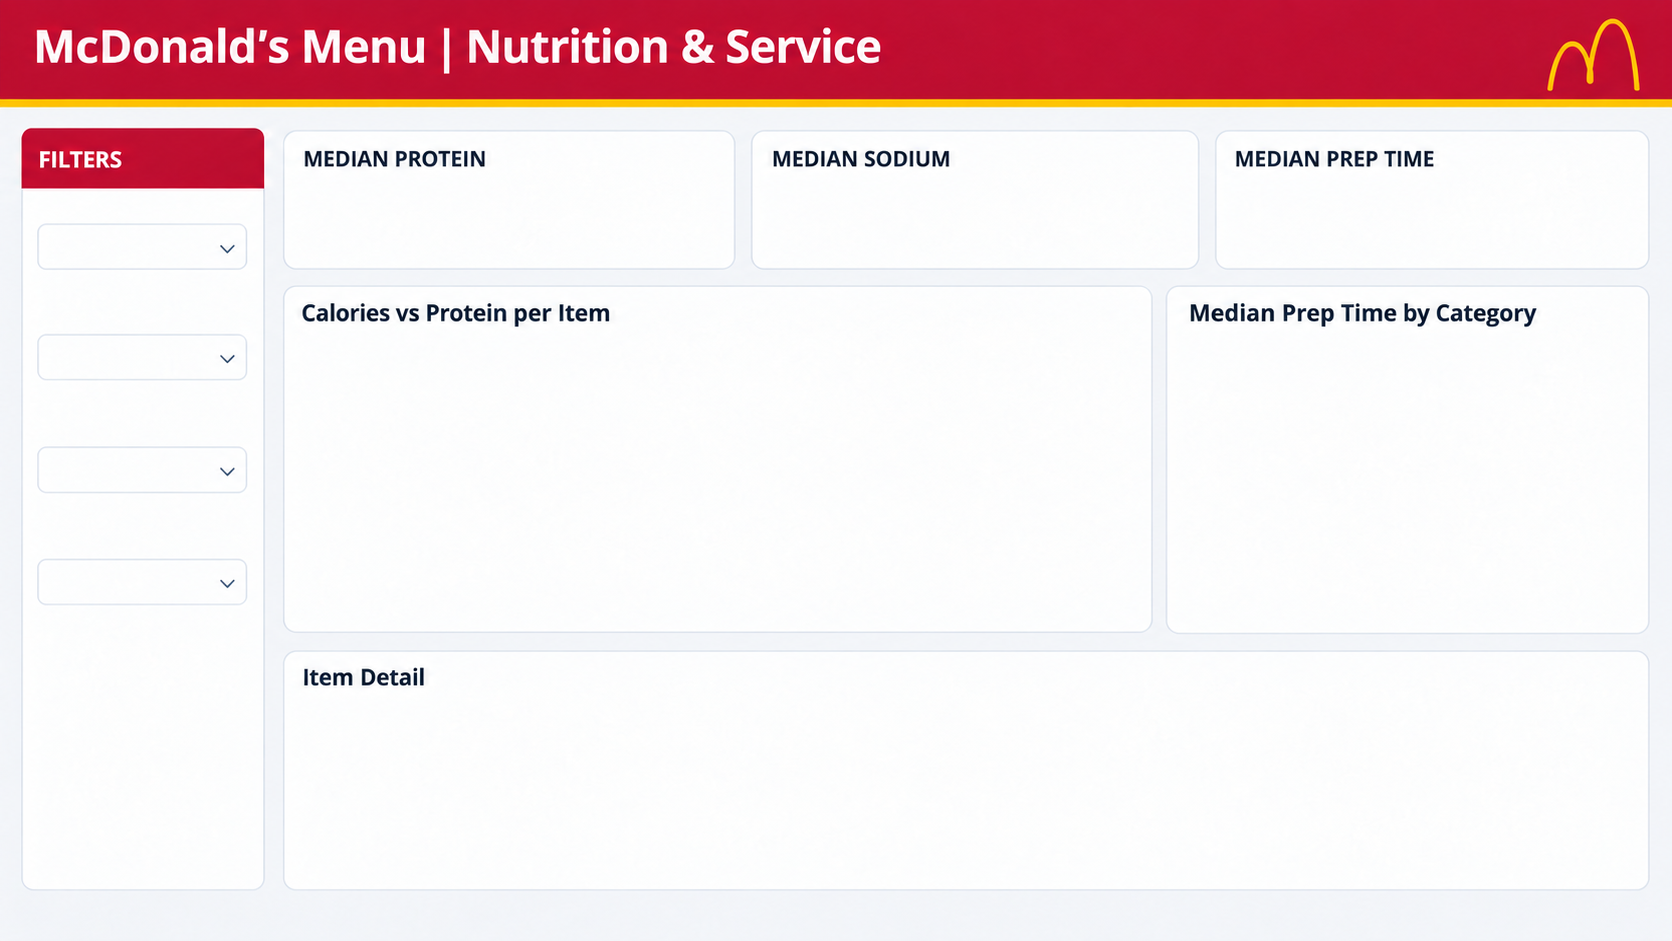

Layout of this report page (visuals, bound fields, positions):
{"tool":"powerbi","page":{"name":"Nutrition & Service","canvas":[1920,1080],"ordinal":1},"visuals":[{"type":"cardVisual","fields":{"Data":["final_mcdonalds_menu.Median Protein"]},"box":[335.3,150.1,242.7,175.2],"z":0},{"type":"cardVisual","fields":{"Data":["final_mcdonalds_menu.Median Sodium"]},"box":[875.8,150.1,242.7,175.2],"z":1000},{"type":"cardVisual","fields":{"Data":["final_mcdonalds_menu.Median Prep Time"]},"box":[1403.7,150.1,242.7,175.2],"z":2000},{"type":"scatterChart","fields":{"X":["Sum(final_mcdonalds_menu.calories)"],"Y":["Sum(final_mcdonalds_menu.protein_g)"],"Category":["final_mcdonalds_menu.item_name"],"Series":["final_mcdonalds_menu.category"]},"box":[334.3,323.7,988,395.2],"z":3000},{"type":"clusteredBarChart","fields":{"Category":["final_mcdonalds_menu.category"],"Y":["final_mcdonalds_menu.Median Prep Time"]},"box":[1353.7,362.8,507.9,355.3],"z":4000},{"type":"tableEx","fields":{"Values":["final_mcdonalds_menu.item_name","final_mcdonalds_menu.price_usd","final_mcdonalds_menu.calories","final_mcdonalds_menu.protein_g","final_mcdonalds_menu.sodium_mg","final_mcdonalds_menu.sugars_g","final_mcdonalds_menu.total_carbs_g"]},"box":[335.3,778.2,1526.3,240.2],"z":5000},{"type":"slicer","fields":{"Values":["final_mcdonalds_menu.category"]},"box":[41.8,242.4,237.1,52.9],"z":6000},{"type":"slicer","fields":{"Values":["final_mcdonalds_menu.is_vegetarian"]},"box":[42.5,368.3,236.2,61.3],"z":6001},{"type":"slicer","fields":{"Values":["final_mcdonalds_menu.is_limited_time"]},"box":[42.9,497.9,236.2,61.3],"z":6002},{"type":"slicer","fields":{"Values":["final_mcdonalds_menu.is_nationwide"]},"box":[42.1,626.4,236.4,61.4],"z":6003}]}

Visuals, with their boxes in screenshot pixels (x1, y1, x2, y2), scaled from the page's 1920x1080 canvas onto the 1672x941 screenshot:
cardVisual - final_mcdonalds_menu.Median Protein: bbox=(292, 131, 503, 283)
cardVisual - final_mcdonalds_menu.Median Sodium: bbox=(763, 131, 974, 283)
cardVisual - final_mcdonalds_menu.Median Prep Time: bbox=(1222, 131, 1434, 283)
scatterChart - Sum(final_mcdonalds_menu.calories) x Sum(final_mcdonalds_menu.protein_g): bbox=(291, 282, 1152, 626)
clusteredBarChart - final_mcdonalds_menu.category x final_mcdonalds_menu.Median Prep Time: bbox=(1179, 316, 1621, 626)
tableEx - final_mcdonalds_menu.item_name x final_mcdonalds_menu.price_usd: bbox=(292, 678, 1621, 887)
slicer - final_mcdonalds_menu.category: bbox=(36, 211, 243, 257)
slicer - final_mcdonalds_menu.is_vegetarian: bbox=(37, 321, 243, 374)
slicer - final_mcdonalds_menu.is_limited_time: bbox=(37, 434, 243, 487)
slicer - final_mcdonalds_menu.is_nationwide: bbox=(37, 546, 243, 599)
